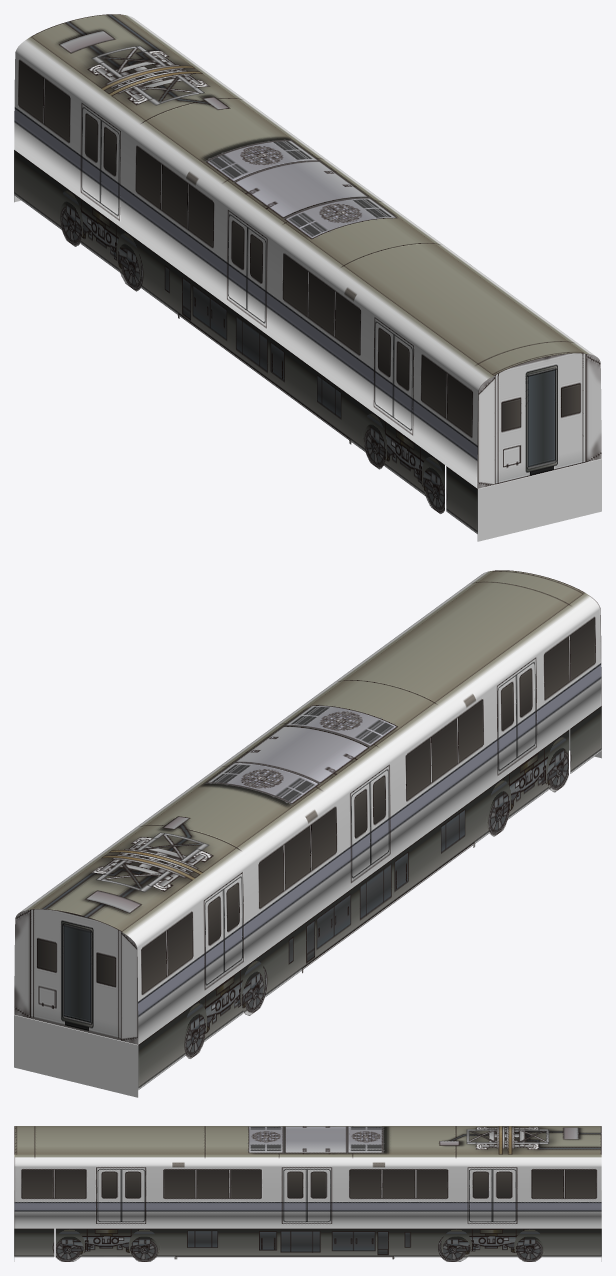
The model's file is car2.glb.
The picture shows the model from 3 angles, top to bottom: view 1: azimuth 30°, elevation 25°; view 2: azimuth 150°, elevation 25°; view 3: azimuth 270°, elevation 25°; orthographic projection. The views are drawn at different scales.
Parts seen in each view (by area): view 1: nagano-3000-car2; view 2: nagano-3000-car2; view 3: nagano-3000-car2.
Part boxes in pixels (left/top/right/bottom): nagano-3000-car2: left=14, top=14, right=601, bottom=541; nagano-3000-car2: left=14, top=570, right=601, bottom=1097; nagano-3000-car2: left=14, top=1126, right=601, bottom=1261.
Size of the model in its own units: 2.78 by 3.6 by 18.03.
Materials: 9 (8 with a texture image).
